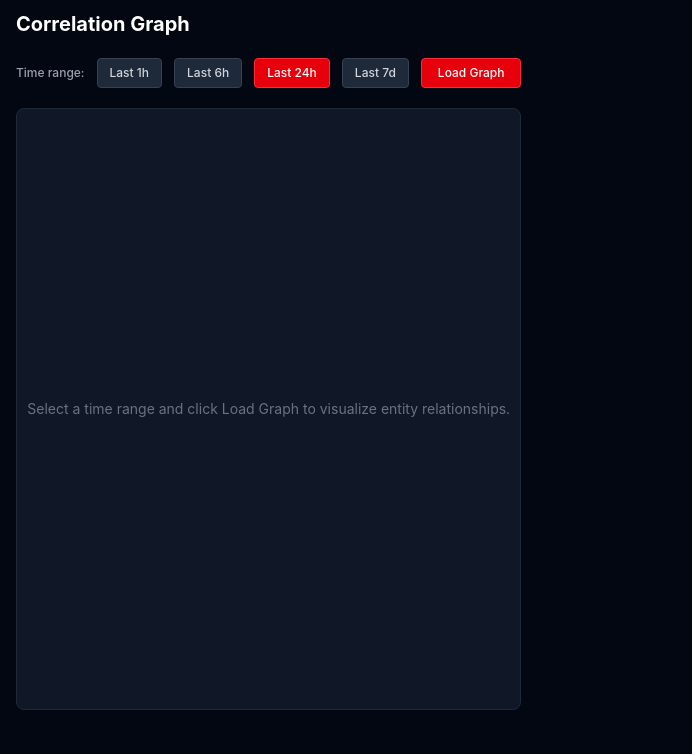
Scenario: CorrelationPage › successful load with data › hides the "Load Graph" button after first load
The width and height of the screenshot is (692, 754).
Click the button "Load Graph" at (471, 73), box [421,58,522,88]
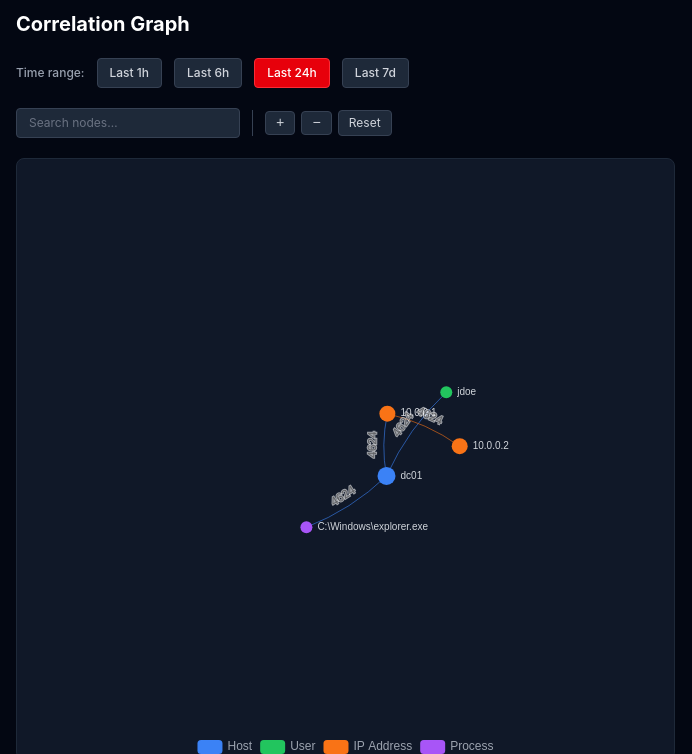
expect the button "Load Graph" is gone: met
